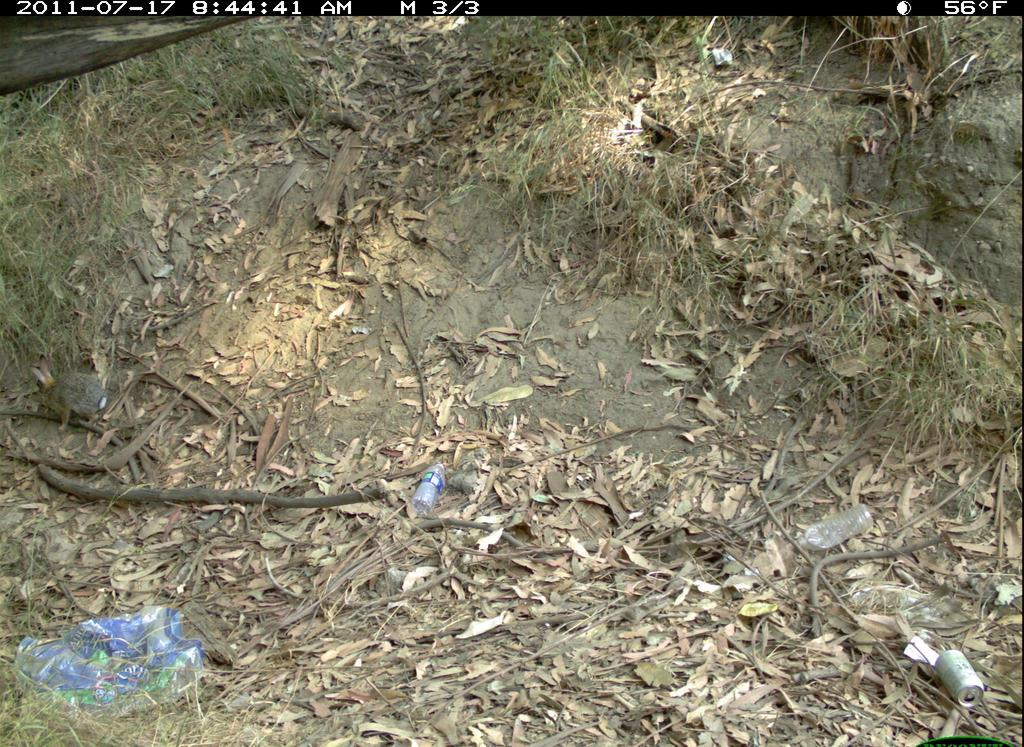rabbit: (26, 351, 114, 436)
